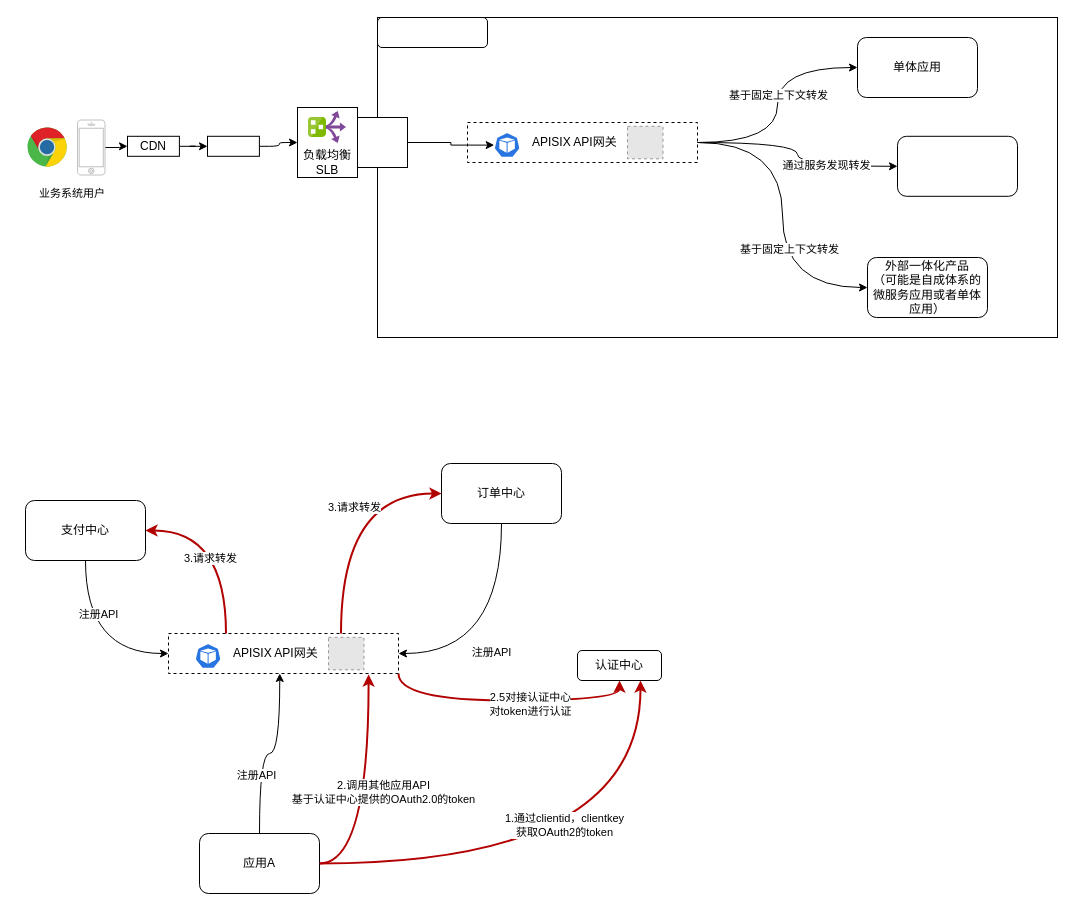
The diagram is 1075 pixels wide and 911 high, and some of its shapes have lost their labels. Grey dashed boxes stand in for pictures. The shapes that lost their labels are listed below. From the top down, each one's centre as x and y in pixels, then its label:
point 432,32: 容器平台 ACK
point 232,145: WAF
point 382,142: K8S Ingress
point 957,165: 客制化微服务应用
